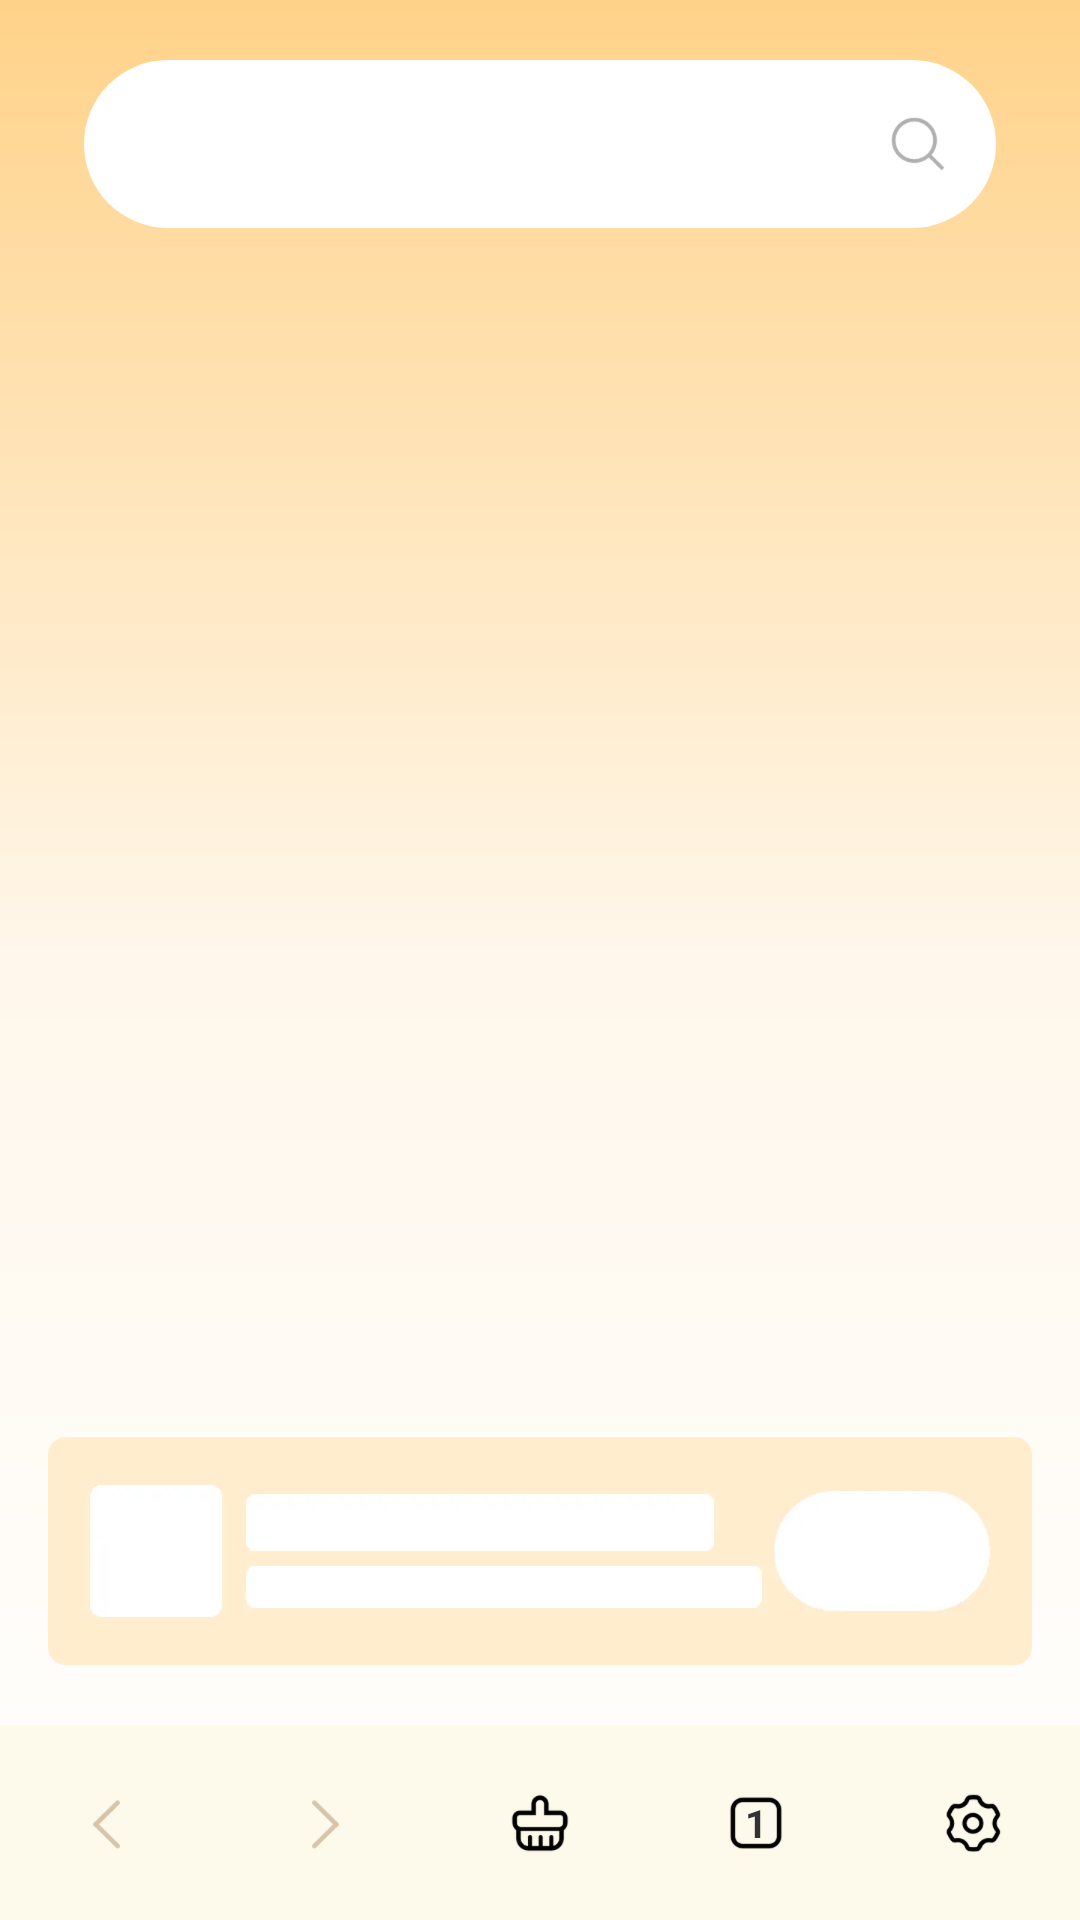

Icon click points for this 1080*1920 phone screenshot, format point (x, y):
search: point (918, 144)
